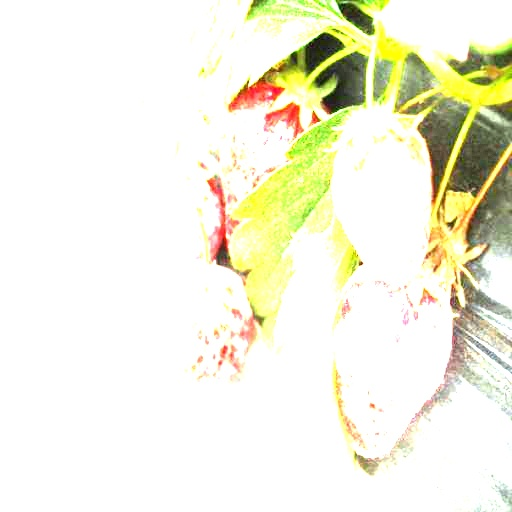Powdery Mildew Fruit: (333, 236, 463, 457), (332, 107, 432, 284), (43, 160, 148, 308), (217, 75, 308, 218), (157, 261, 255, 387), (154, 179, 204, 268)
